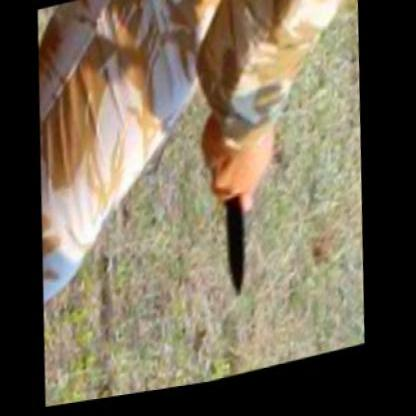knife: (203, 133, 273, 312)
